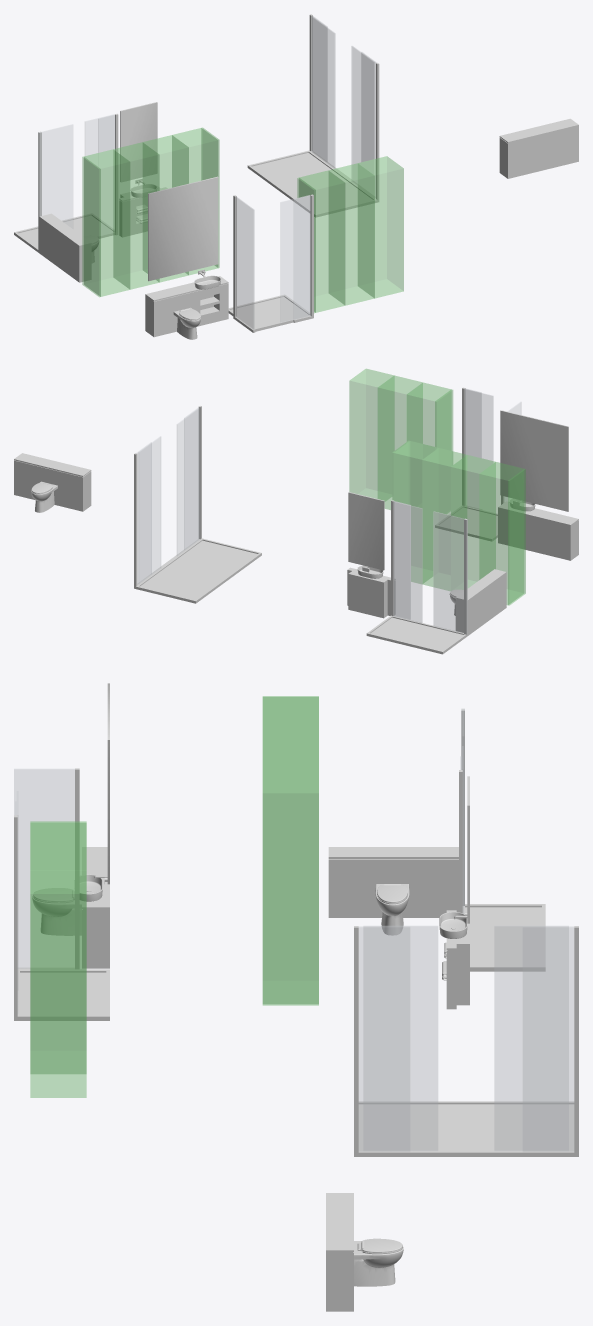
Rendered from RB05__Storey__FirstFloor__ProposedFixtures__MeshModel__.glb.
The picture shows the model from 3 angles, top to bottom: view 1: azimuth 30°, elevation 25°; view 2: azimuth 150°, elevation 25°; view 3: azimuth 270°, elevation 25°; orthographic projection. The views are drawn at different scales.
Visible parts, largest first — view 1: 27__ProposedBuilding__Fixtures::MAT014__ForDiscussion__Green, 27__ProposedBuilding__Fixtures::Default, 27__ProposedBuilding__Fixtures::MAT101__Glass__ClearDefault, 27__ProposedBuilding__Fixtures::MAT140__Mirror__ClearDefault, 27_4003__Bathroom__Toilet__Standard__Type-03___ID26906336; view 2: 27__ProposedBuilding__Fixtures::MAT014__ForDiscussion__Green, 27__ProposedBuilding__Fixtures::Default, 27__ProposedBuilding__Fixtures::MAT101__Glass__ClearDefault, 27__ProposedBuilding__Fixtures::MAT140__Mirror__ClearDefault, 27_4003__Bathroom__Toilet__Standard__Type-03___ID26906335, 27__ProposedBuilding__Fixtures::MAT615__Metal__Ironmongery__; view 3: 27__ProposedBuilding__Fixtures::Default, 27__ProposedBuilding__Fixtures::MAT101__Glass__ClearDefault, 27__ProposedBuilding__Fixtures::MAT014__ForDiscussion__Green, 27_4003__Bathroom__Toilet__Standard__Type-03___ID26906335, 27_4003__Bathroom__Toilet__Standard__Type-03___ID26906336.
Boxes of the visible parts, bbox=[...] form: 27__ProposedBuilding__Fixtures::MAT014__ForDiscussion__Green: bbox=[82, 127, 403, 312]; 27__ProposedBuilding__Fixtures::Default: bbox=[14, 14, 578, 337]; 27__ProposedBuilding__Fixtures::MAT101__Glass__ClearDefault: bbox=[42, 15, 376, 329]; 27__ProposedBuilding__Fixtures::MAT140__Mirror__ClearDefault: bbox=[120, 102, 218, 281]; 27_4003__Bathroom__Toilet__Standard__Type-03___ID26906336: bbox=[173, 307, 200, 339]; 27__ProposedBuilding__Fixtures::MAT014__ForDiscussion__Green: bbox=[349, 369, 525, 605]; 27__ProposedBuilding__Fixtures::Default: bbox=[14, 387, 578, 654]; 27__ProposedBuilding__Fixtures::MAT101__Glass__ClearDefault: bbox=[137, 388, 521, 633]; 27__ProposedBuilding__Fixtures::MAT140__Mirror__ClearDefault: bbox=[348, 410, 568, 570]; 27_4003__Bathroom__Toilet__Standard__Type-03___ID26906335: bbox=[31, 481, 57, 512]; 27__ProposedBuilding__Fixtures::MAT615__Metal__Ironmongery__: bbox=[434, 518, 467, 634]; 27__ProposedBuilding__Fixtures::Default: bbox=[14, 768, 578, 1311]; 27__ProposedBuilding__Fixtures::MAT101__Glass__ClearDefault: bbox=[14, 711, 573, 1151]; 27__ProposedBuilding__Fixtures::MAT014__ForDiscussion__Green: bbox=[30, 696, 318, 1097]; 27_4003__Bathroom__Toilet__Standard__Type-03___ID26906335: bbox=[354, 1238, 403, 1286]; 27_4003__Bathroom__Toilet__Standard__Type-03___ID26906336: bbox=[32, 888, 81, 935].
Bounding box in the file's own units: 10.18 × 2.7 × 6.03.
5 materials, 1 textured.
